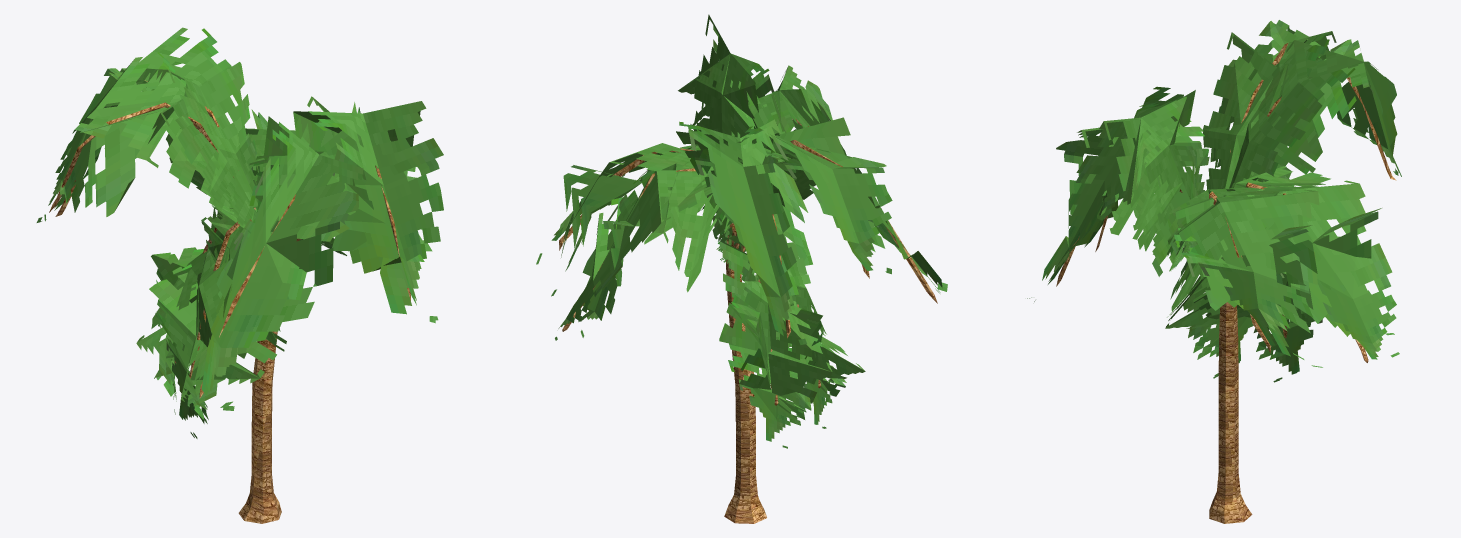
The model's file is palm-clump.lod2.glb.
The picture shows the model from 3 angles, left to right: view 1: azimuth 30°, elevation 25°; view 2: azimuth 150°, elevation 25°; view 3: azimuth 270°, elevation 25°; orthographic projection. The views are drawn at different scales.
Visible parts, largest first — view 1: Palm Tree 3 Leaves_0, Palm Tree 3 Main_0; view 2: Palm Tree 3 Leaves_0, Palm Tree 3 Main_0; view 3: Palm Tree 3 Leaves_0, Palm Tree 3 Main_0.
Part boxes in pixels (x1=…): Palm Tree 3 Leaves_0: x1=36, y1=27, x2=443, y2=438; Palm Tree 3 Main_0: x1=49, y1=80, x2=410, y2=523; Palm Tree 3 Leaves_0: x1=536, y1=14, x2=947, y2=448; Palm Tree 3 Main_0: x1=559, y1=118, x2=937, y2=523; Palm Tree 3 Leaves_0: x1=1027, y1=20, x2=1401, y2=382; Palm Tree 3 Main_0: x1=1056, y1=43, x2=1396, y2=523.
Size of the model in its own units: 6.13 by 7 by 6.45.
2 materials, 2 textured.
